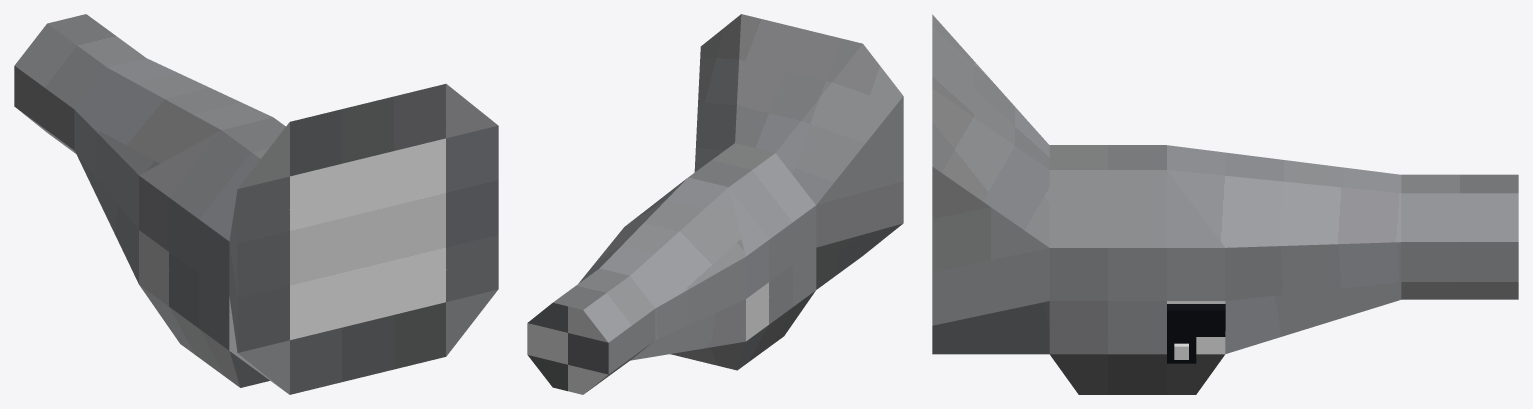
File: gearbox.obj
The picture shows the model from 3 angles, left to right: view 1: azimuth 30°, elevation 25°; view 2: azimuth 150°, elevation 25°; view 3: azimuth 270°, elevation 25°; orthographic projection. The views are drawn at different scales.
Visible parts, largest first — view 1: cuboid, oilpan; view 2: cuboid, oilpan; view 3: cuboid, oilpan, shifter.
Boxes of the visible parts, x1,y1,x2,y2 form: cuboid: (14, 14, 498, 394); oilpan: (139, 285, 269, 387); cuboid: (527, 14, 903, 394); oilpan: (670, 290, 815, 370); cuboid: (932, 14, 1518, 354); oilpan: (1050, 354, 1224, 394); shifter: (1167, 304, 1225, 363).
Bounding box in the file's own units: 0.3125 × 0.375 × 0.625.
